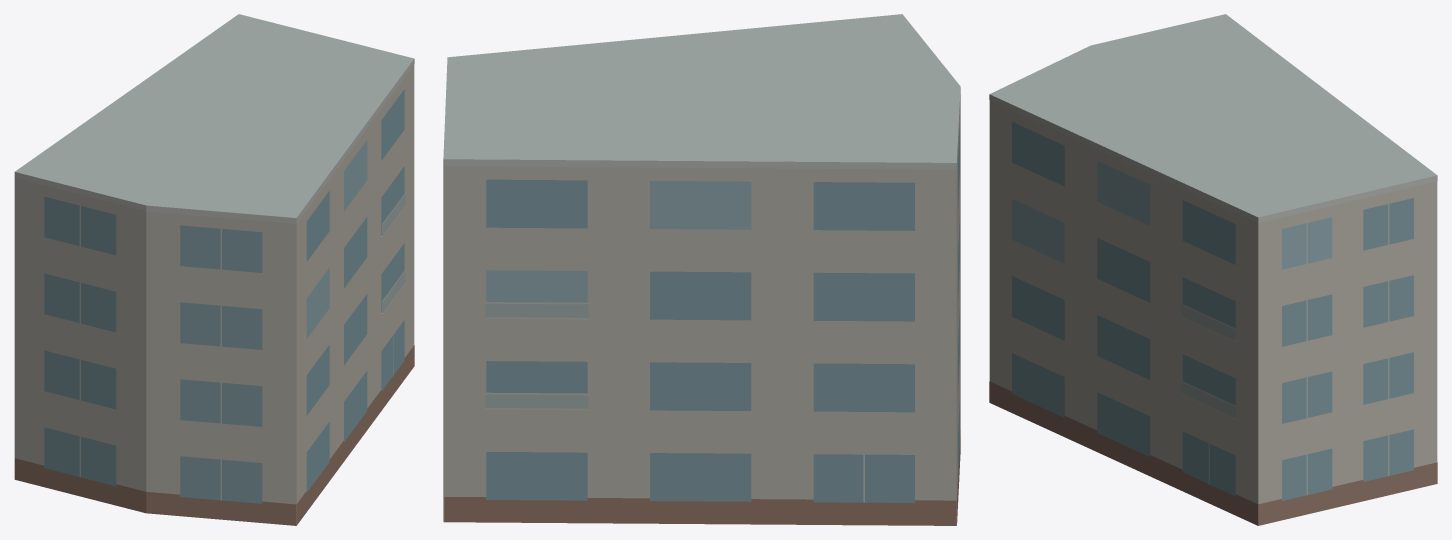
File: survey-upis-32616057.glb
3 views of the same model, side by side, from view 1: azimuth 30°, elevation 25°; view 2: azimuth 150°, elevation 25°; view 3: azimuth 270°, elevation 25° (orthographic). The views are drawn at different scales.
Parts seen in each view (by area): view 1: survey-upis-32616057.tmp; view 2: survey-upis-32616057.tmp; view 3: survey-upis-32616057.tmp.
Part boxes in pixels (x1,y1,x2,y2): survey-upis-32616057.tmp: (14,14,414,525); survey-upis-32616057.tmp: (443,14,960,525); survey-upis-32616057.tmp: (989,14,1437,525).
Size of the model in its own units: 18.34 by 12.96 by 17.06.
